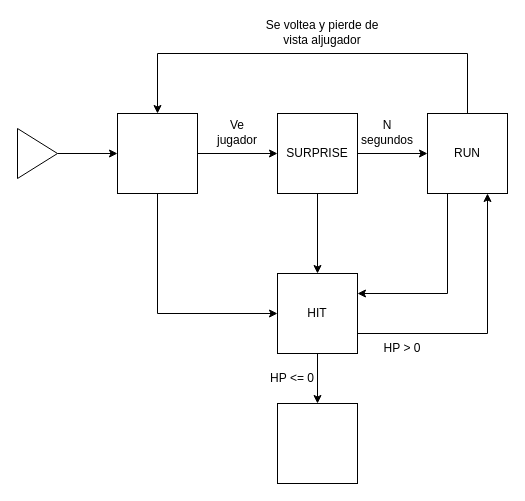
The diagram is 525 pixels wide and 501 high, and some of its shapes have lost their labels. Here are the shapes that lost their labels. From the top down, the centre of each, then its label:
(157,153): MOVE
(317,443): DEAD
